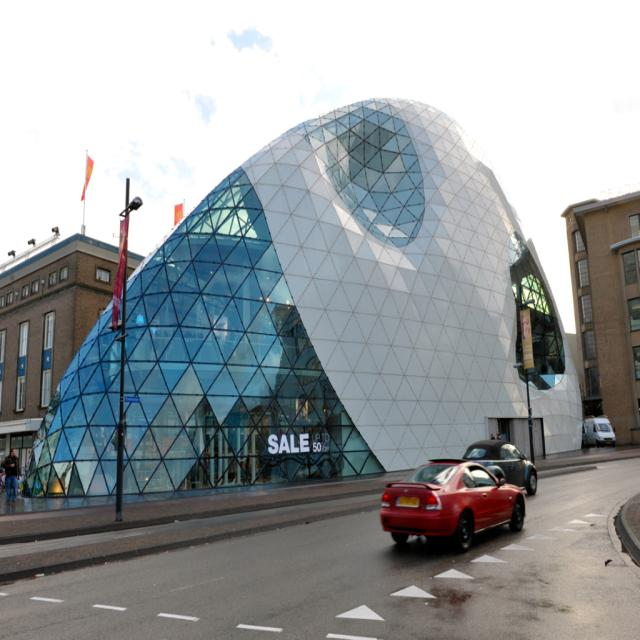car: (378, 452, 527, 554)
